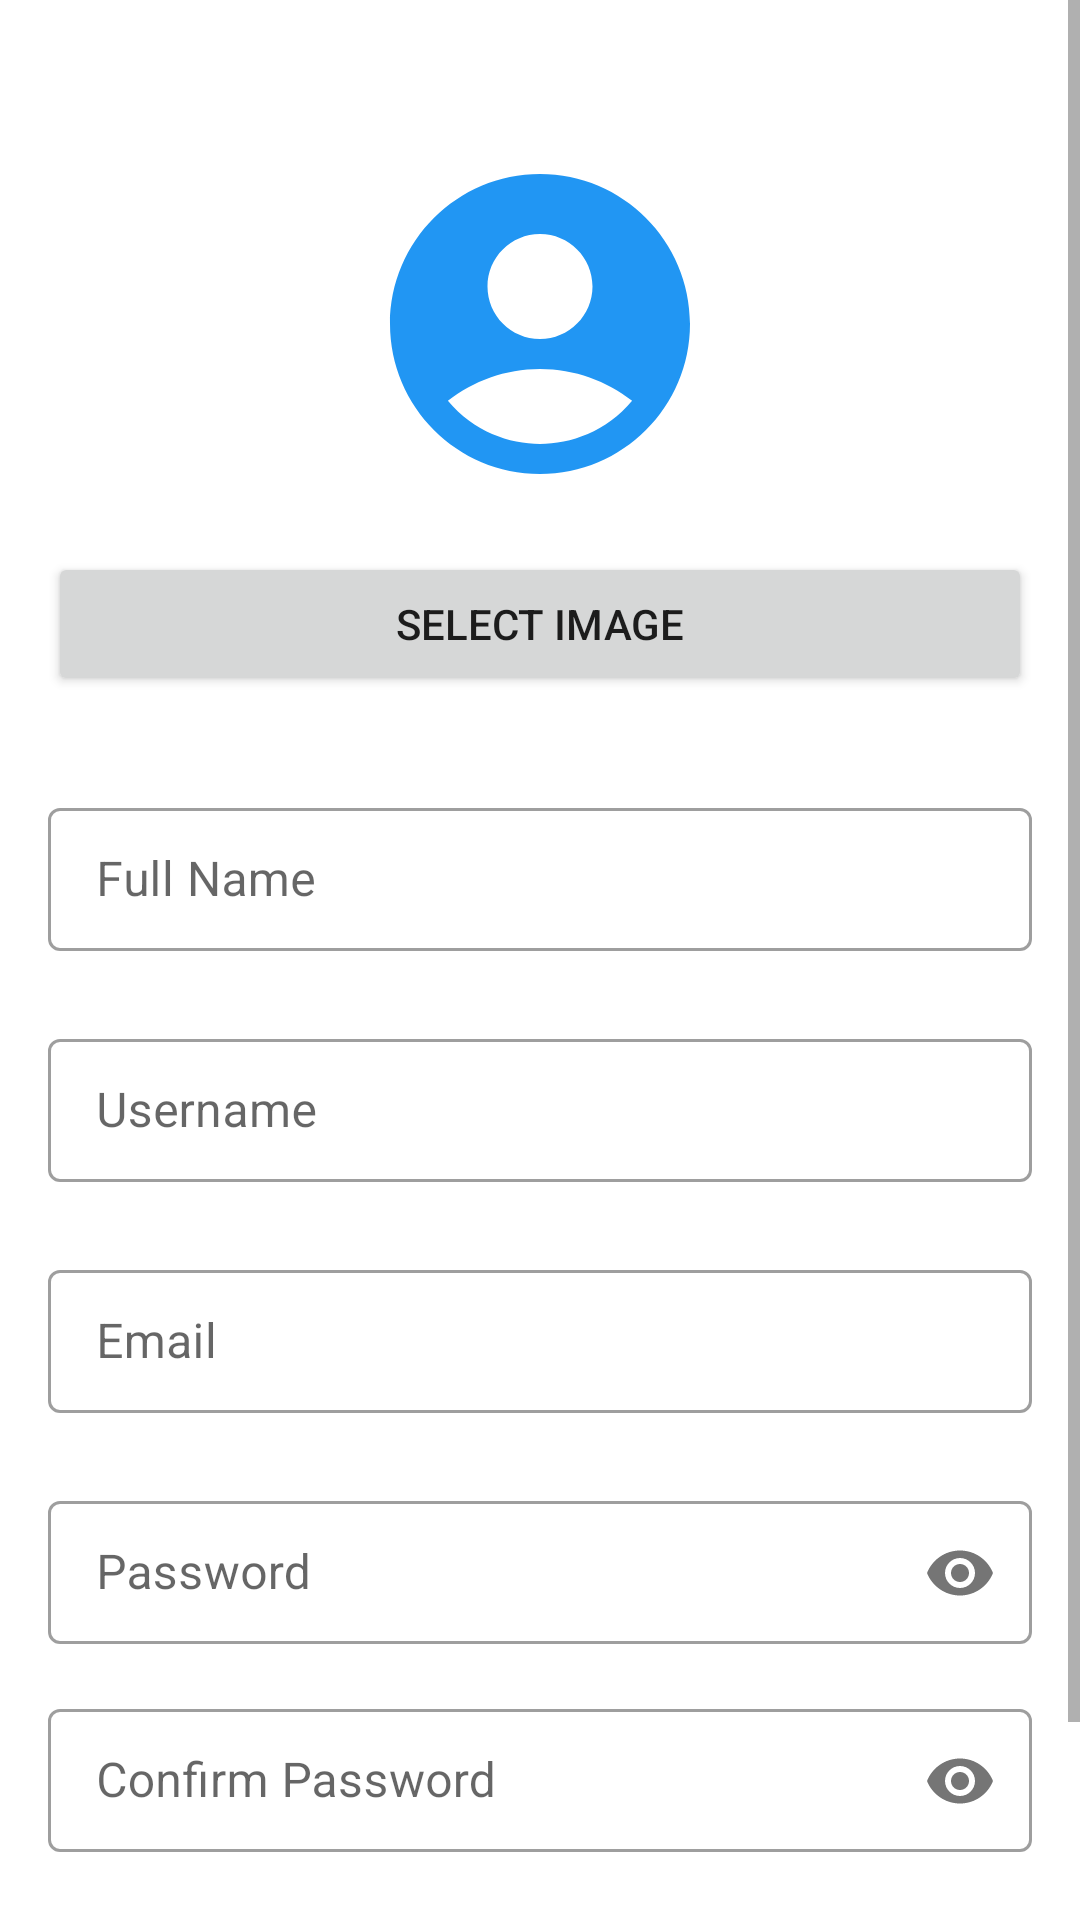

Named icons in this screenshot (1080×1920) and their centers, (x=x, y=y):
account circle: (x=540, y=324)
